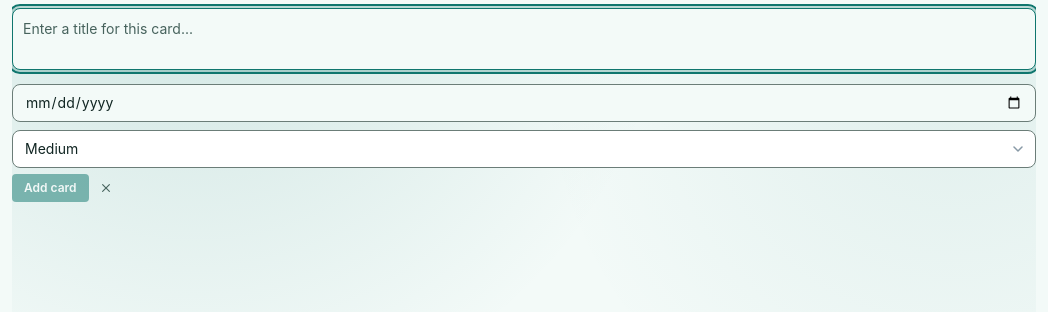
it: add-card form contract › keeps the typed title, date and priority and reports the failure inline
Type "Ship the audit" into the text box named "Card title".
click(524, 39); type("Ship the audit")  # box [12,8,1036,70]
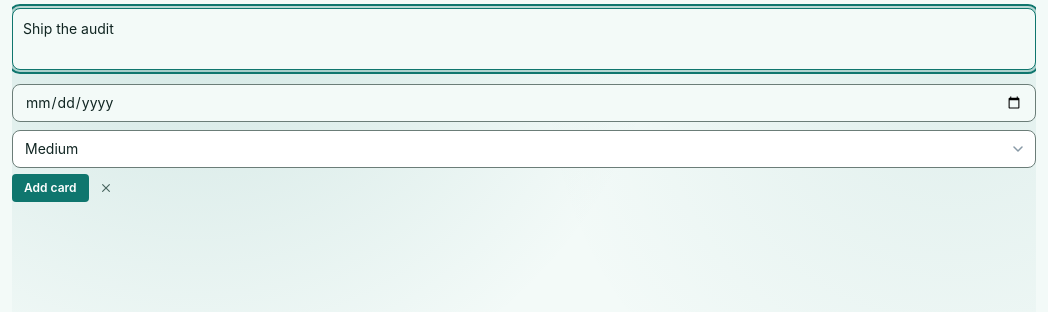
Type "2026-11-02" into the date field named "Due date".
click(524, 103); type("2026-11-02")  # box [12,84,1036,122]
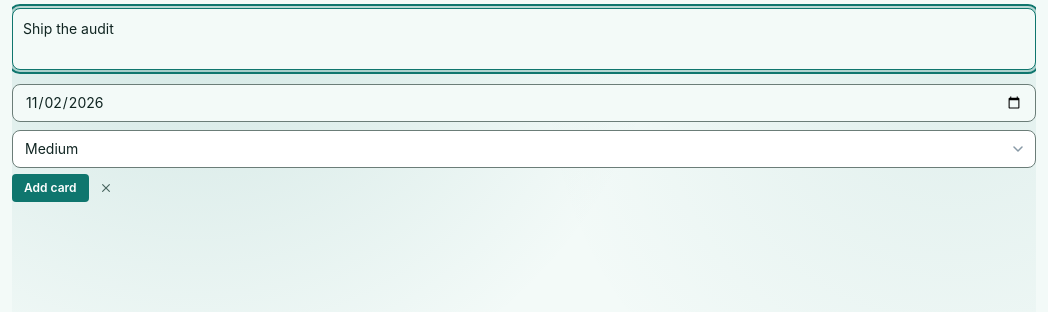
Select "High" in the dropdown named "Priority" at (524, 149), box [12,130,1036,168]
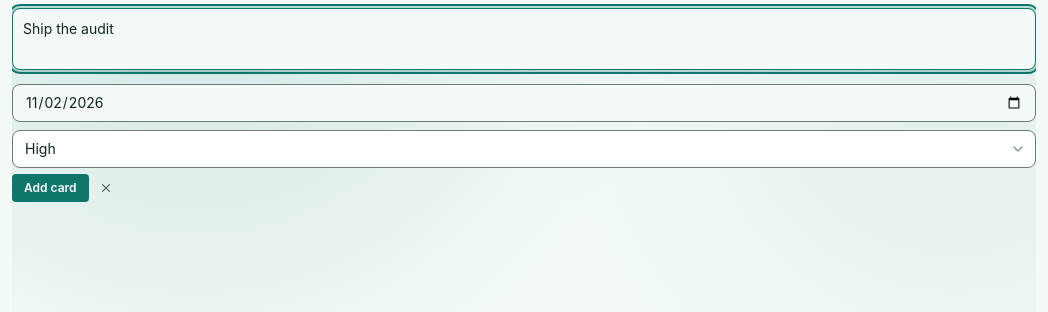
Click the button "Add card".
click(50, 188)  # box [12,174,88,202]
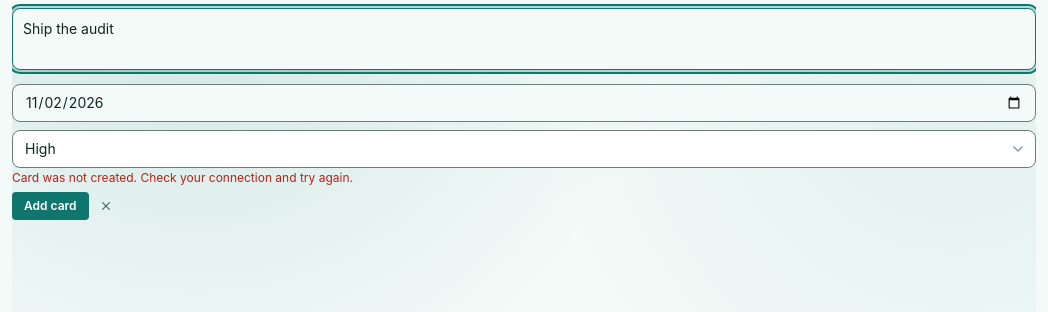
Expected: the button "Add card" is enabled, [12,192,88,220]
Expected: the message shows "not created", [12,170,353,185]
